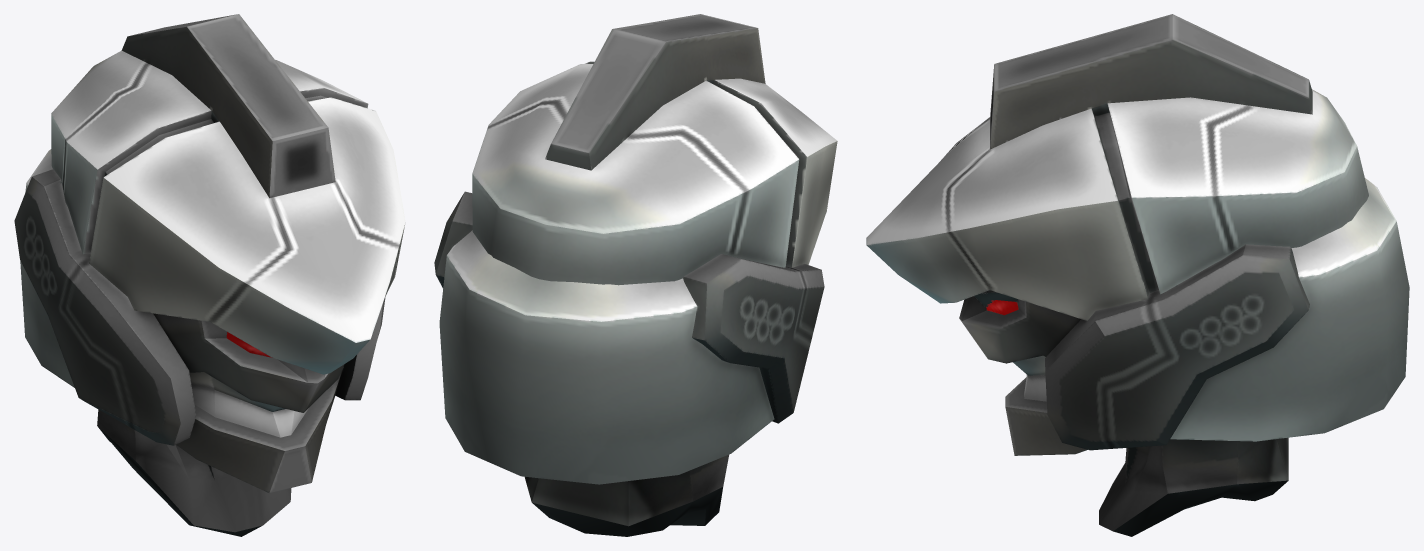
Rendered from matsumecha-helmet.glb.
The picture shows the model from 3 angles, left to right: view 1: azimuth 30°, elevation 25°; view 2: azimuth 150°, elevation 25°; view 3: azimuth 270°, elevation 25°; orthographic projection. The views are drawn at different scales.
Parts seen in each view (by area): view 1: Head; view 2: Head; view 3: Head.
Boxes of the visible parts, x1=… form: Head: x1=14, y1=14, x2=405, y2=536; Head: x1=434, y1=14, x2=837, y2=536; Head: x1=866, y1=14, x2=1409, y2=536.
Size of the model in its own units: 0.6401 by 0.9814 by 0.9575.
1 material, 1 textured.
